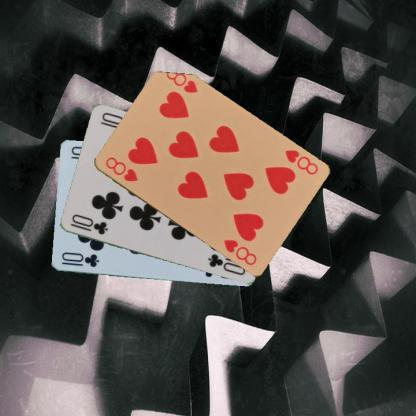10c: (68, 212, 109, 236), (58, 250, 100, 268)
8h: (281, 147, 319, 177), (102, 154, 139, 183)
